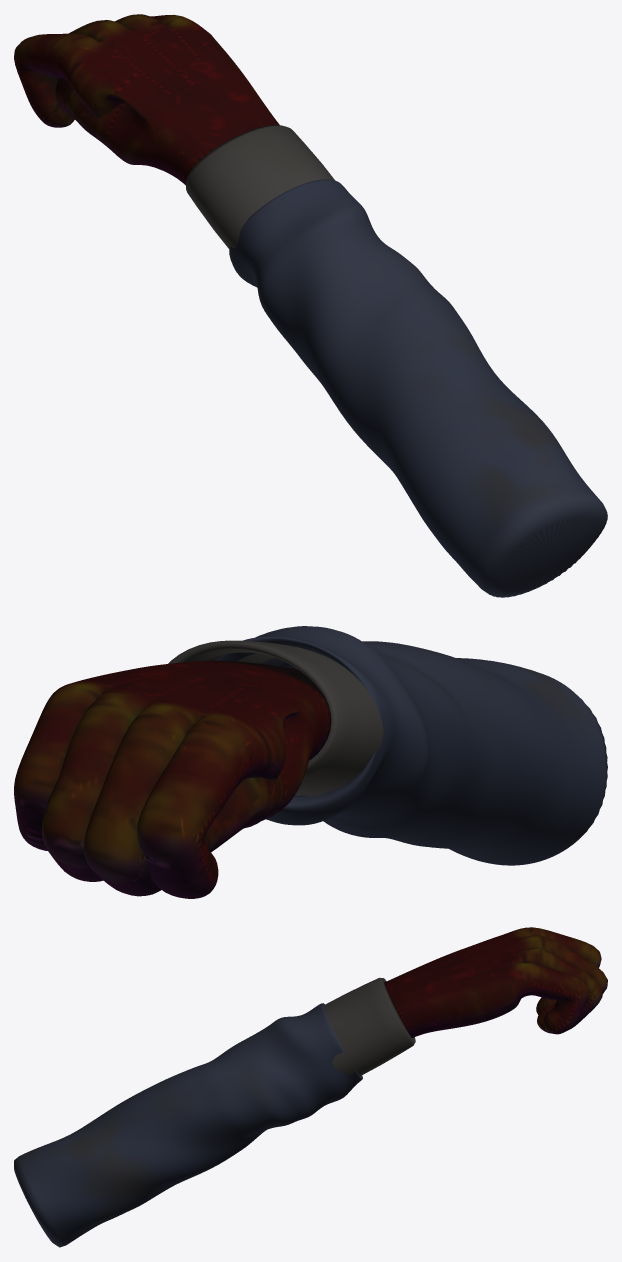
File: fp_hand_R_handle.glb
3 views of the same model, one above another, from view 1: azimuth 30°, elevation 25°; view 2: azimuth 150°, elevation 25°; view 3: azimuth 270°, elevation 25° (orthographic). The views are drawn at different scales.
Visible parts, largest first — view 1: fp_hand_R_handle; view 2: fp_hand_R_handle; view 3: fp_hand_R_handle.
Boxes of the visible parts, x1=… form: fp_hand_R_handle: x1=14, y1=14, x2=607, y2=597; fp_hand_R_handle: x1=14, y1=626, x2=607, y2=898; fp_hand_R_handle: x1=14, y1=927, x2=607, y2=1247.
Size of the model in its own units: 0.1372 by 0.2077 by 0.417.
3 materials, 1 textured.
